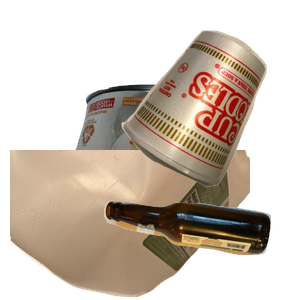glass: (101, 198, 300, 300)
metal: (60, 82, 300, 262)
plastic: (10, 150, 250, 300)
trash: (119, 28, 300, 207)
